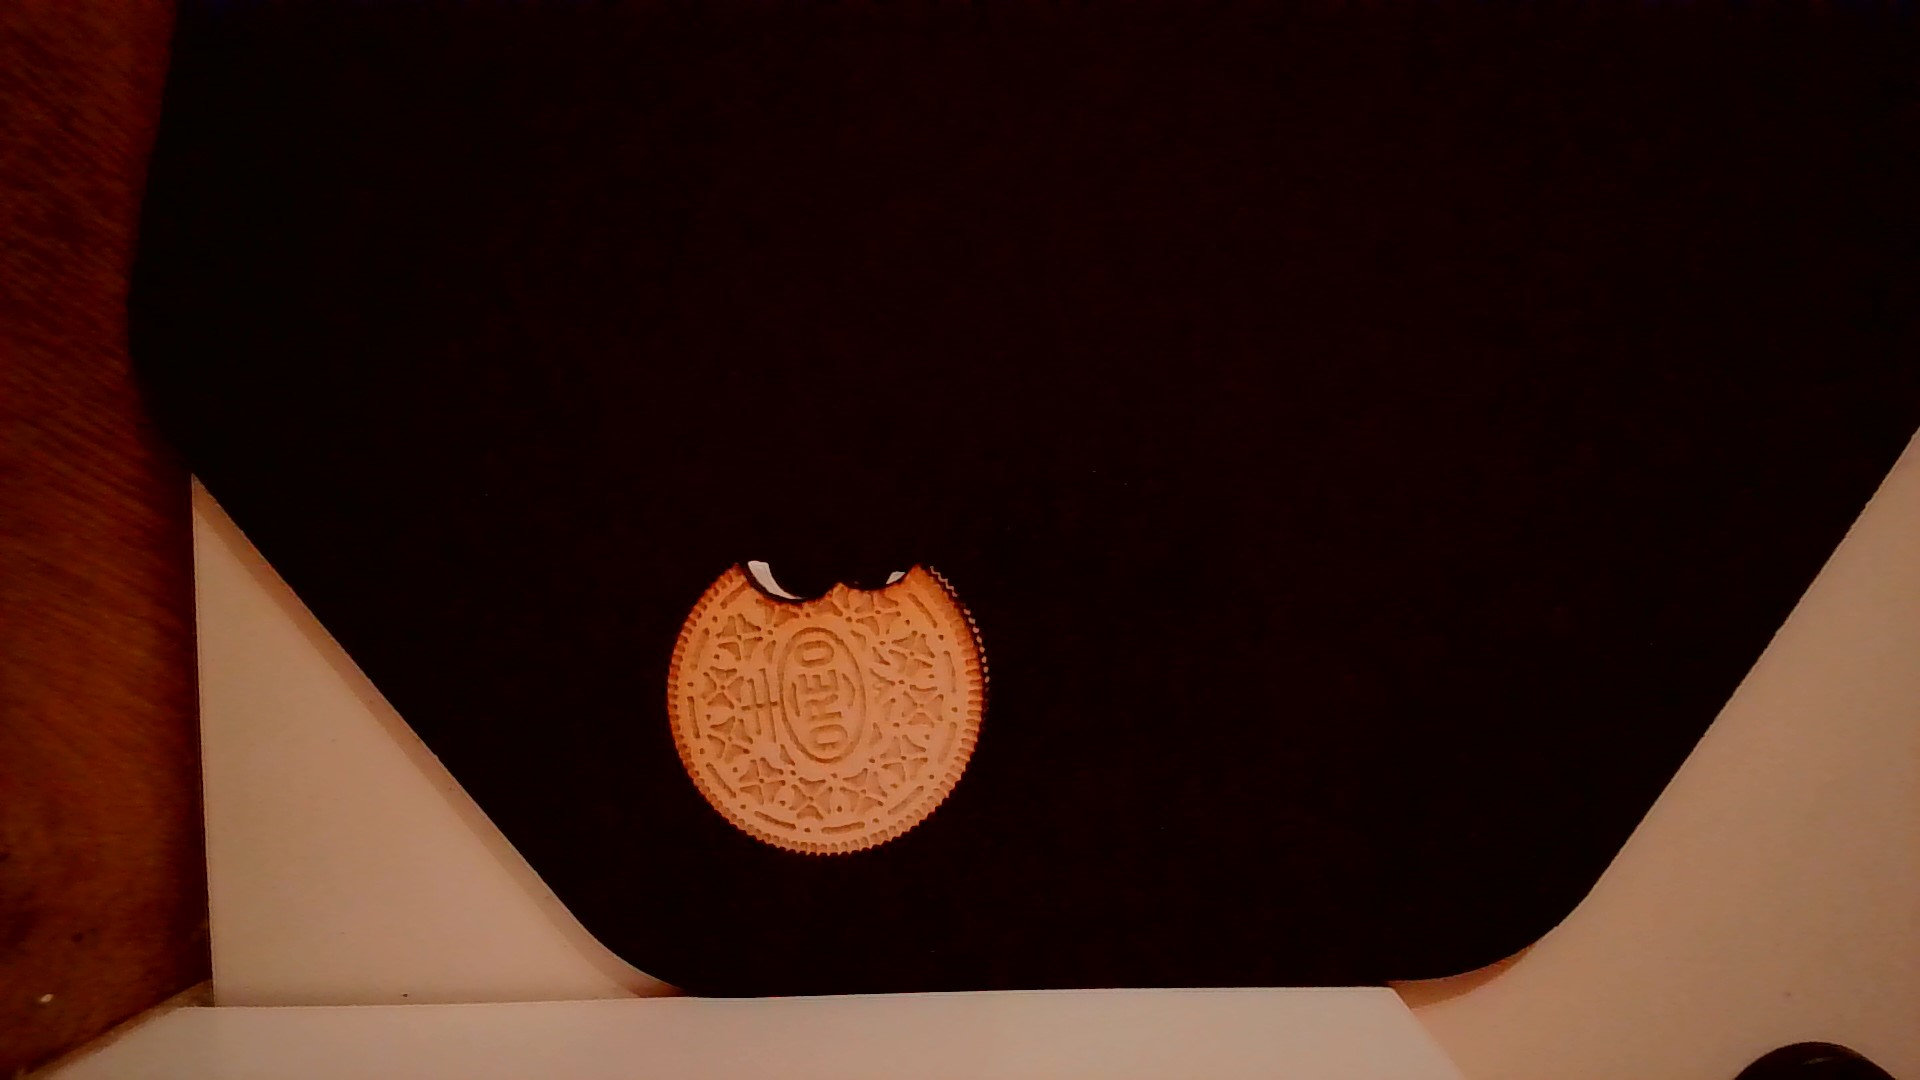Mangé: (731, 535, 940, 620)
Oréo: (657, 553, 1000, 865)
